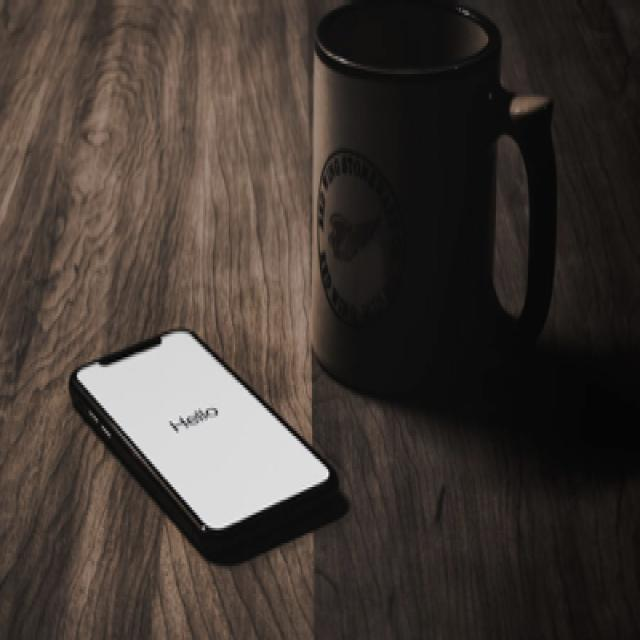cellphone: (68, 324, 342, 563)
